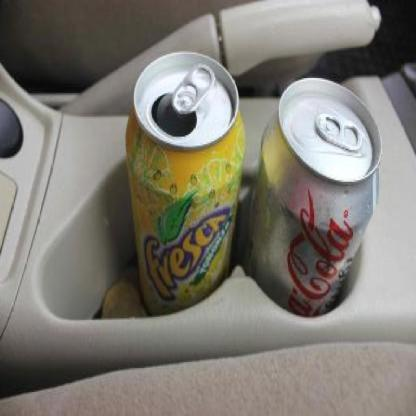alumunium_can: (247, 77, 383, 317), (126, 53, 244, 313)
